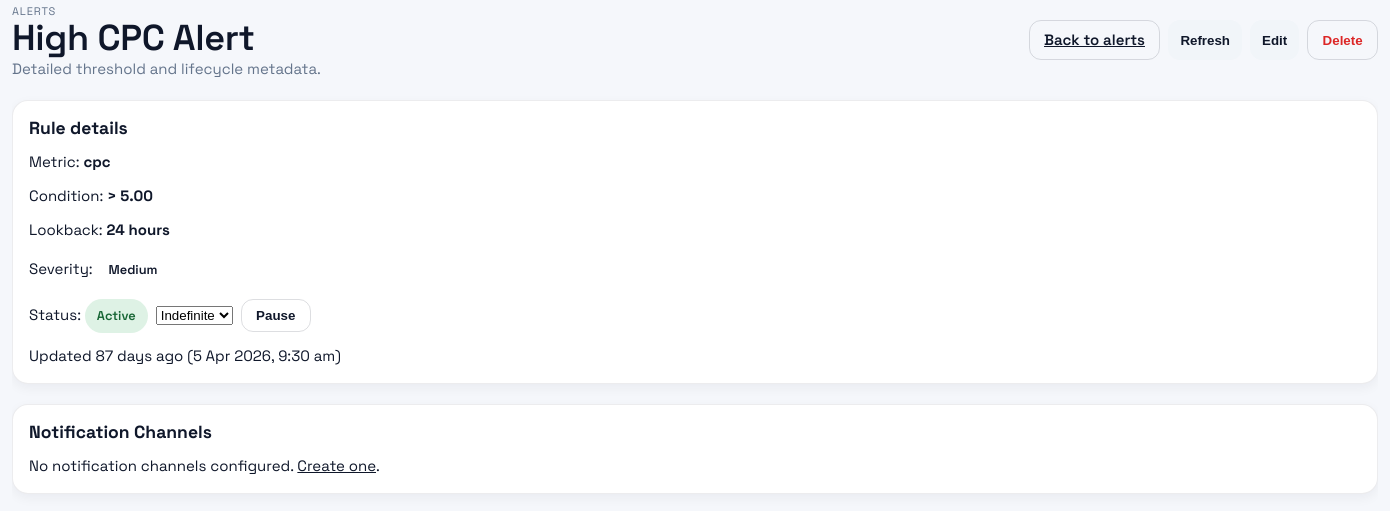
AlertDetailPage › refreshes alert data when Refresh button is clicked
Expected: the heading "High CPC Alert" is shown, x1=12 y1=15 x2=255 y2=61
Step 1. Click the button "Refresh" → (1205, 40), box x1=1168 y1=20 x2=1242 y2=60
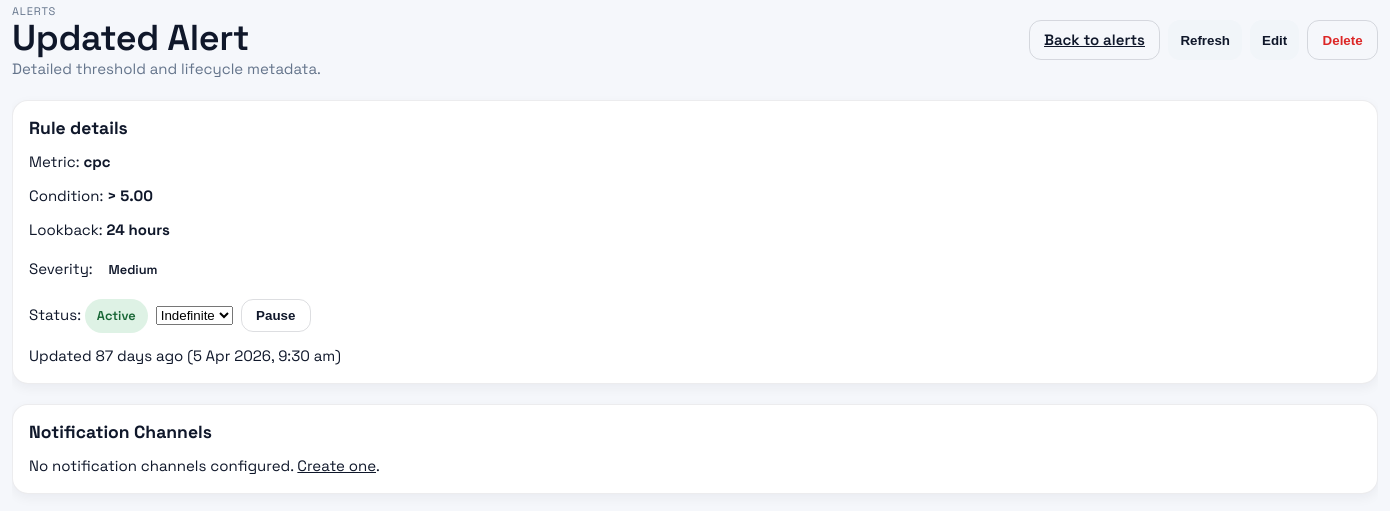
Result: the heading "Updated Alert" is shown at x1=12 y1=15 x2=249 y2=61
